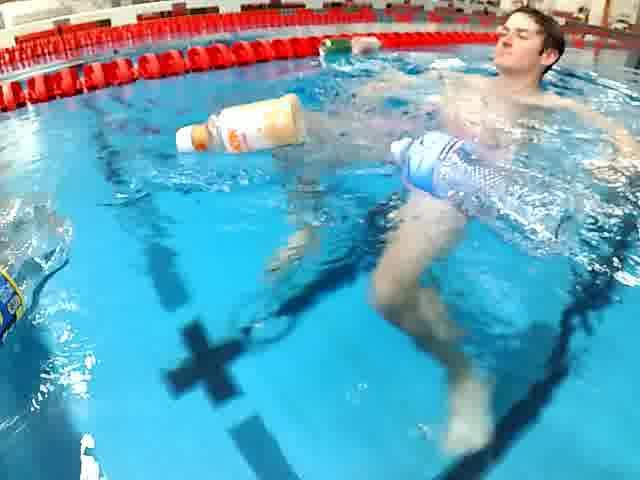Bottle: (382, 130, 592, 256), (0, 187, 76, 361), (169, 91, 313, 165), (349, 32, 387, 56)
Can: (308, 34, 356, 61)
